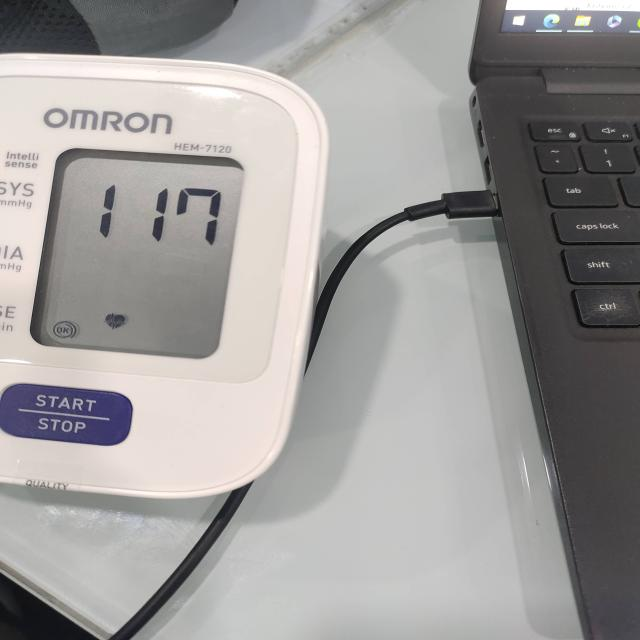bp: (0, 53, 330, 639)
